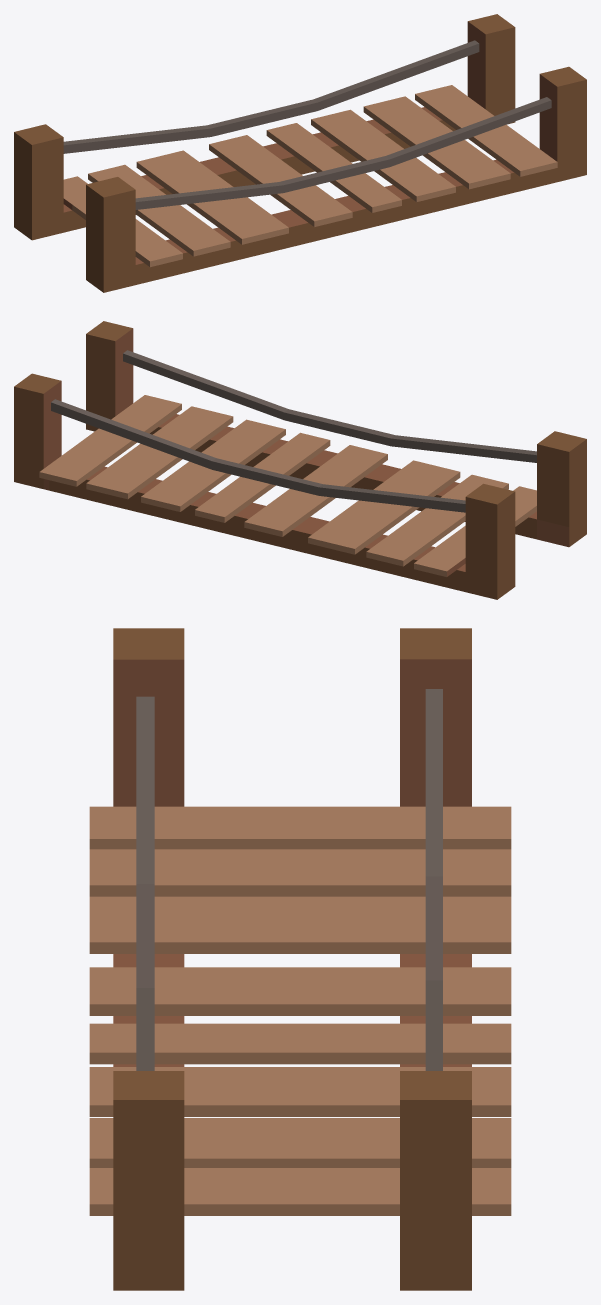
The model's file is bridge_raw.fbx.
3 views of the same model, one above another, from view 1: azimuth 30°, elevation 25°; view 2: azimuth 150°, elevation 25°; view 3: azimuth 270°, elevation 25° (orthographic). The views are drawn at different scales.
Visible parts, largest first — view 1: pCube1; view 2: pCube1; view 3: pCube1.
Part boxes in pixels (box(x1,y1,x2,y2)): pCube1: box(14, 14, 586, 292); pCube1: box(14, 321, 586, 599); pCube1: box(89, 628, 511, 1290).
Bounding box in the file's own units: 6.33 × 1.19 × 2.39.
